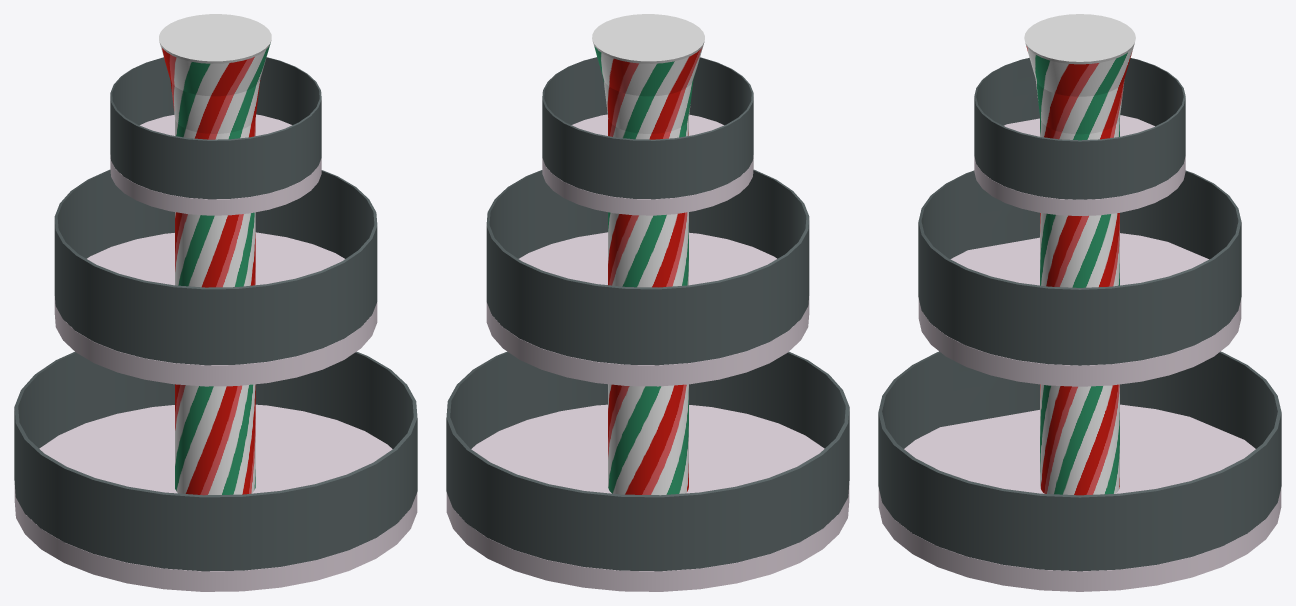
The model's file is candy_tower (1).fbx.
3 views of the same model, side by side, from view 1: azimuth 30°, elevation 25°; view 2: azimuth 150°, elevation 25°; view 3: azimuth 270°, elevation 25° (orthographic).
Visible parts, largest first — view 1: bottom, middle, stubic, up; view 2: bottom, middle, stubic, up; view 3: bottom, middle, stubic, up.
Part boxes in pixels (<box>): bottom: <box>14,351,417,591</box>; middle: <box>54,169,377,386</box>; stubic: <box>159,14,271,495</box>; up: <box>110,57,321,215</box>; bottom: <box>446,351,849,591</box>; middle: <box>486,169,809,386</box>; stubic: <box>592,14,704,495</box>; up: <box>542,57,753,215</box>; bottom: <box>878,351,1281,591</box>; middle: <box>918,170,1241,386</box>; stubic: <box>1024,14,1135,495</box>; up: <box>974,58,1185,215</box>.
Bounding box in the file's own units: 177 × 256 × 177.
Materials: 4 (1 with a texture image).
